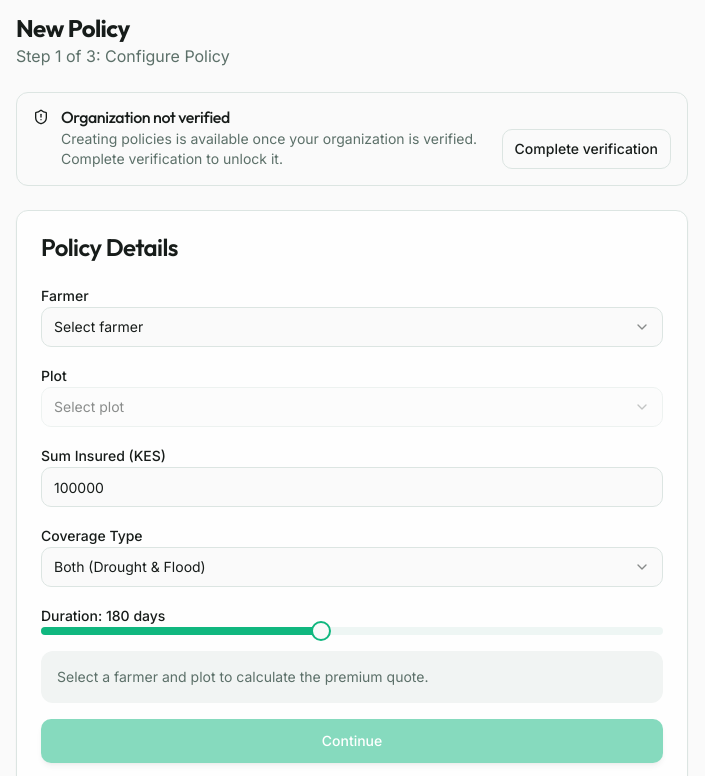
Test: NewPolicyPage and the catalogue › does not quote a legacy crop the market never listed
Click the dropdown labelled "Select farmer": (99, 326) [41, 307, 663, 347]
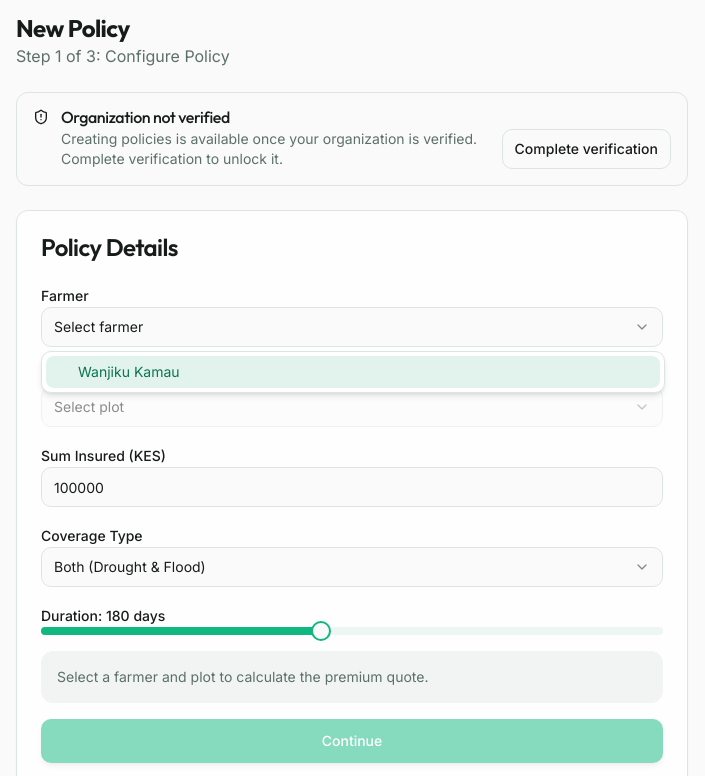
Click the option "Wanjiku Kamau": (104, 372) [46, 356, 660, 388]
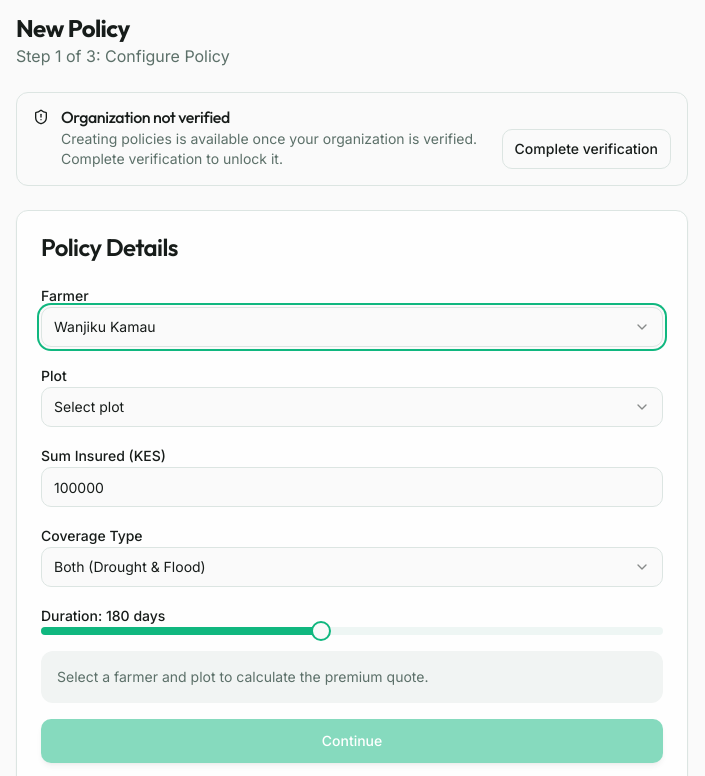
Click the dropdown labelled "Select plot": (89, 406) [41, 387, 663, 427]
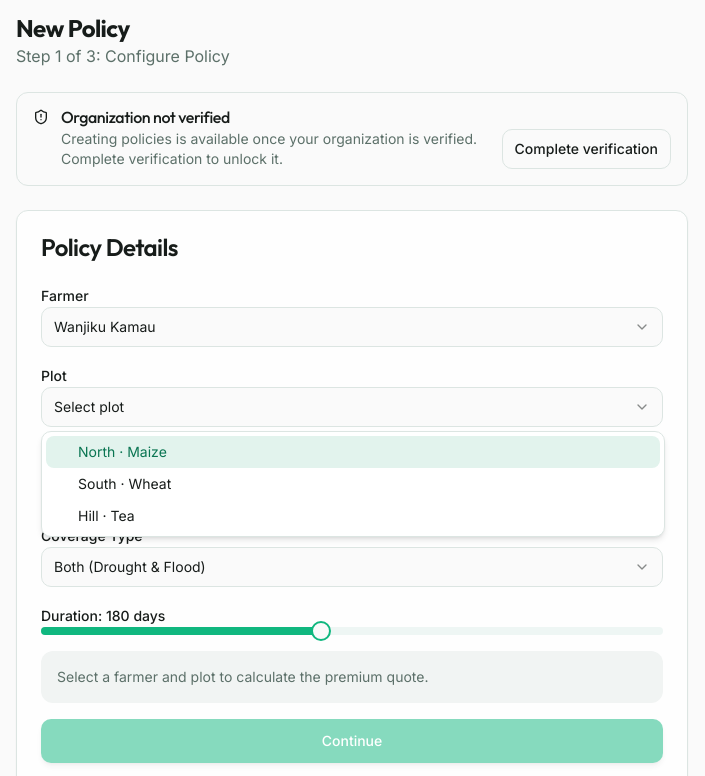
Click the option "Hill · Tea": (106, 516) [78, 507, 135, 524]
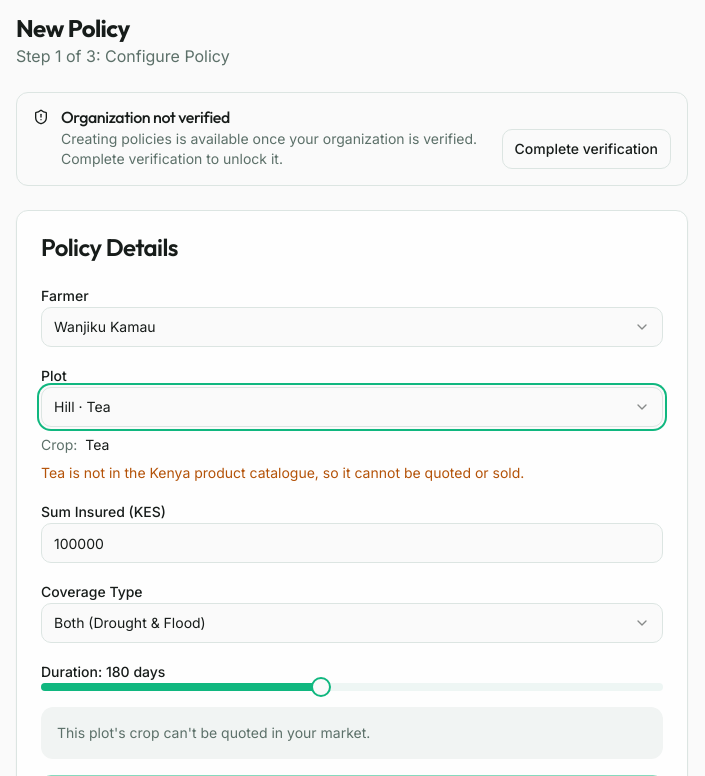
Expected: the text "Tea is not in the Kenya product catalogue, so it cannot be quoted or sold." is shown, [41, 464, 524, 481]
